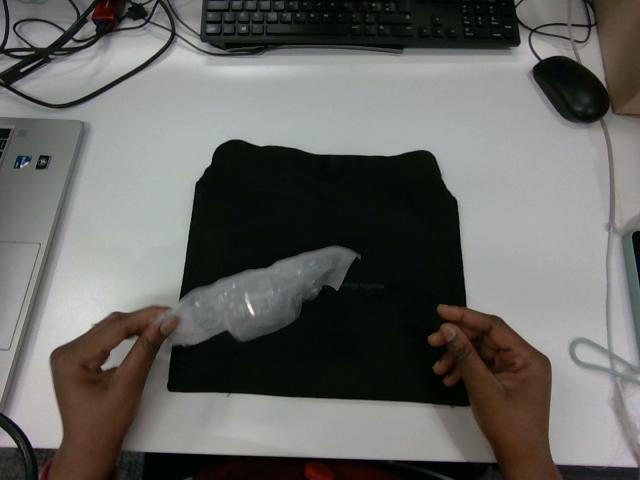gallipot: (155, 246, 358, 345)
